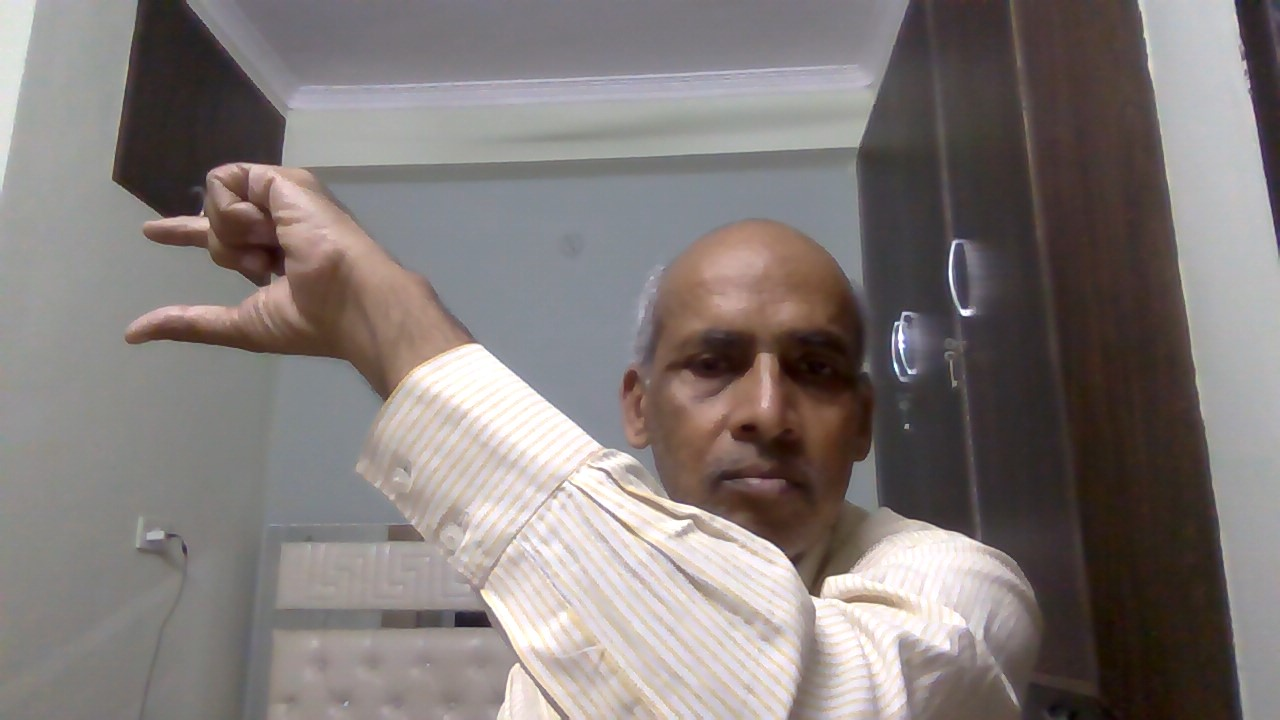Paste: (110, 147, 410, 375)
